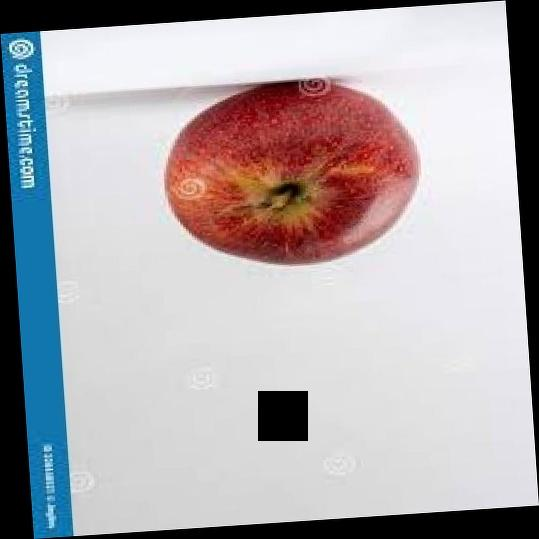red apple: (157, 81, 427, 271)
